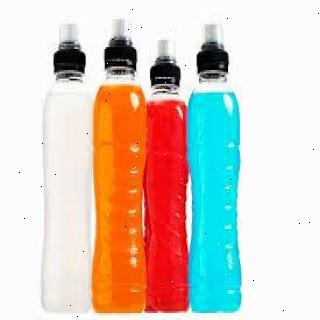Plastic-bottle: (185, 22, 245, 316), (40, 17, 98, 316), (93, 13, 149, 318), (143, 36, 193, 314)
